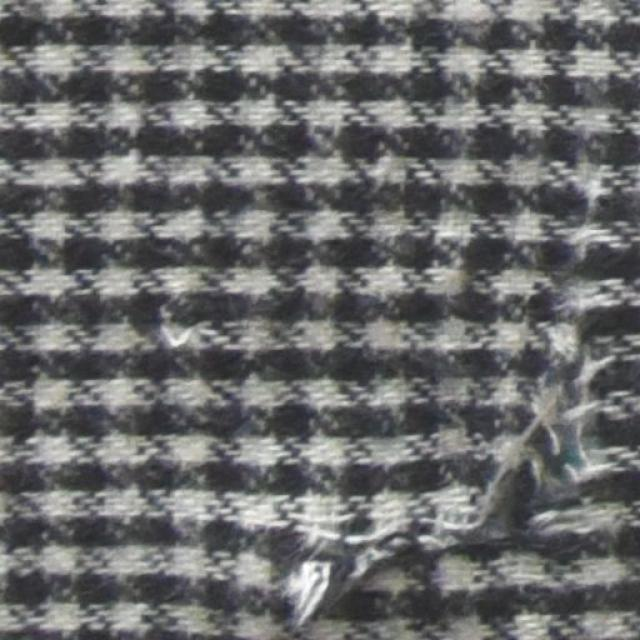Snag: (285, 138, 630, 639)
